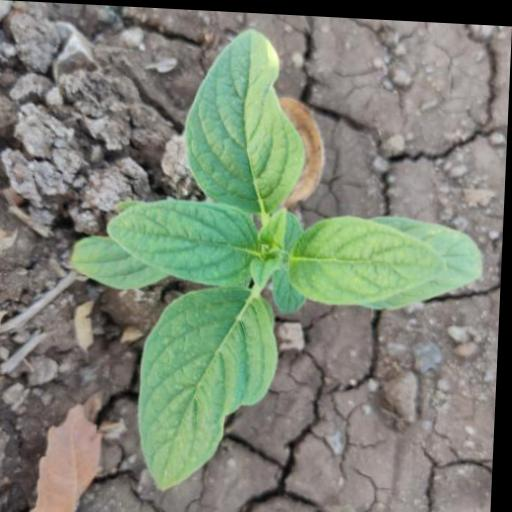crop: (41, 19, 494, 502)
